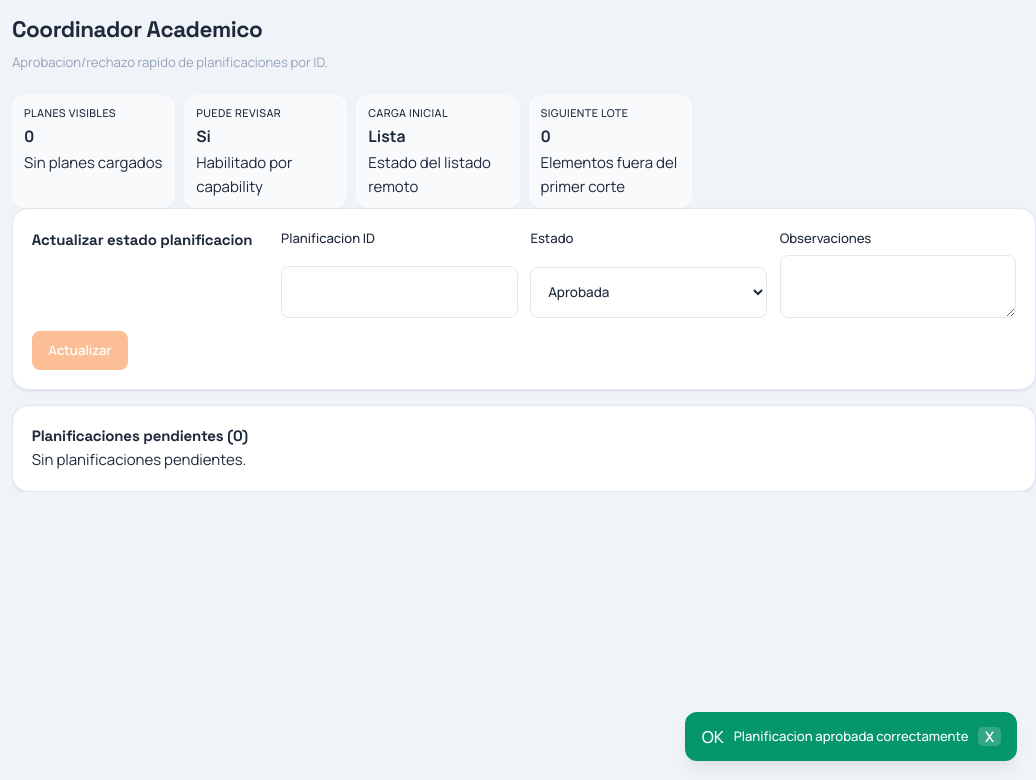
Test case: CoordinadorAcademicoPage › shows backend error when update fails
Expected: the text "Sin planificaciones pendientes." is shown, [32,449,246,470]
Type "9" into the number field labelled "Planificacion ID" at {"x": 399, "y": 292}, box [281,266,518,318]
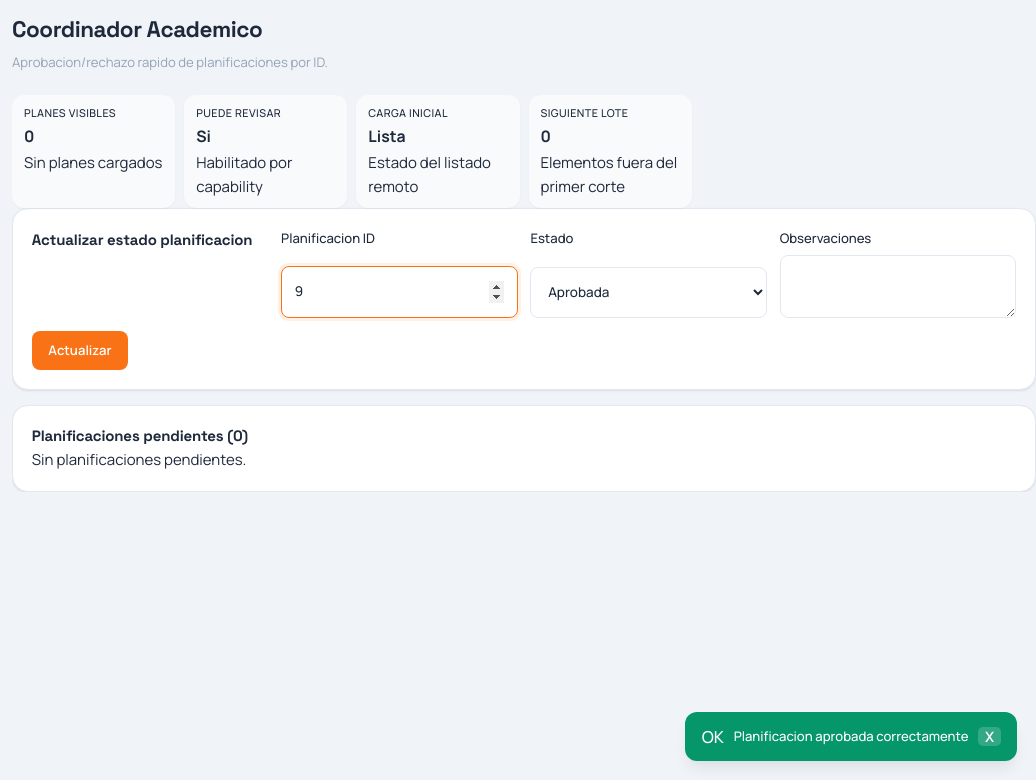
Click the button "Actualizar" at {"x": 80, "y": 350}, box [32,331,128,370]
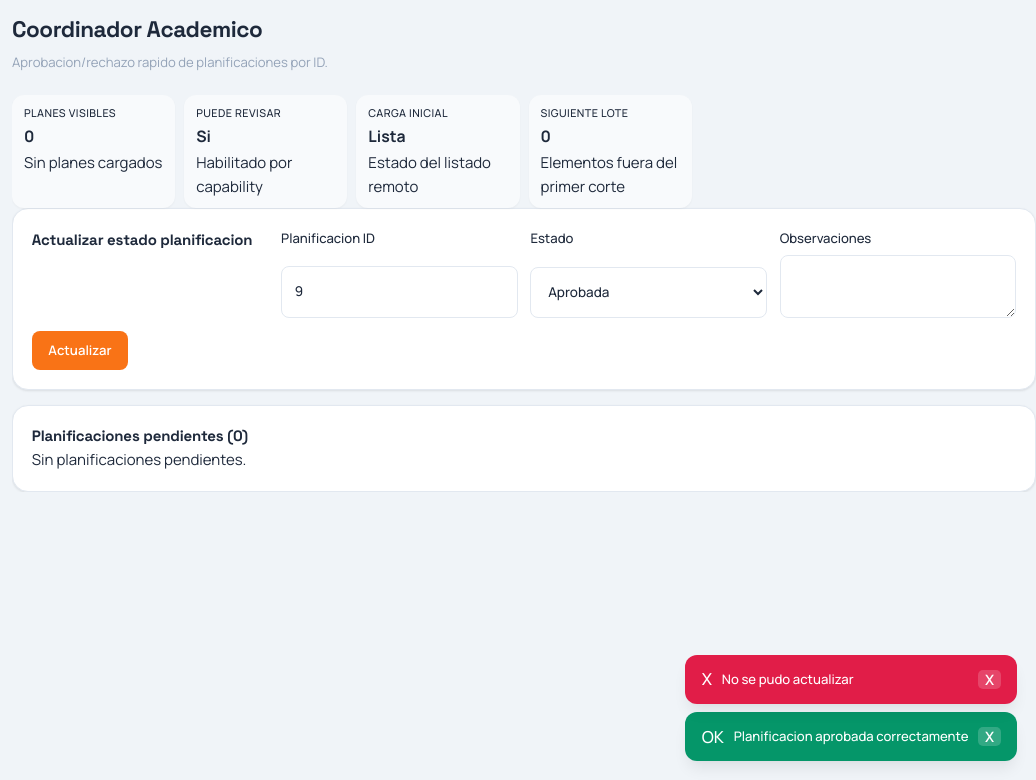
Now the text "No se pudo actualizar" is shown, box [722,670,854,688]
